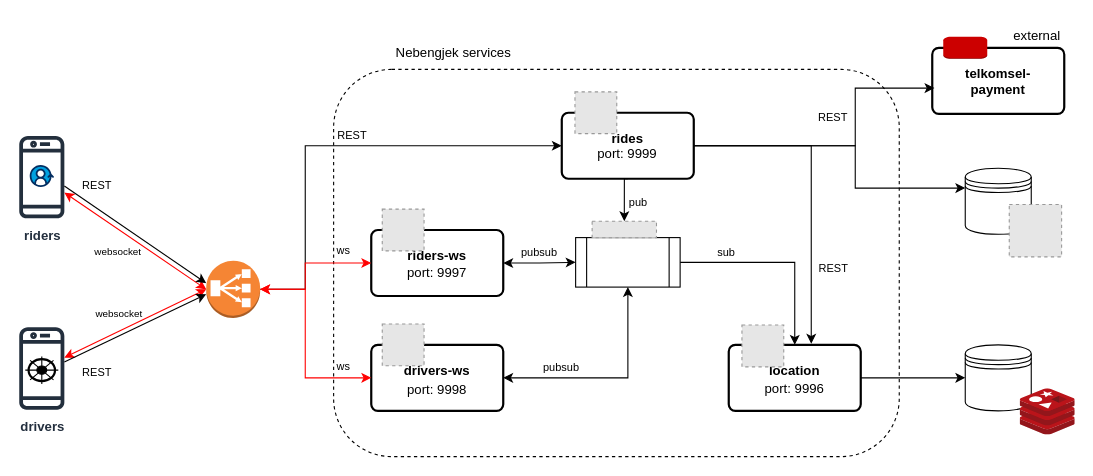
Some shapes in this 1093 by 476 pixel diagram are drawn without their labels. Grey dashed boxes stand in for pictures. Here are the shapes that lost their labels. From the top down, the centre of each, then its label:
At (997,200): "rides DB".
At (627,262): "message broker".
At (232,289): "load balancer".
At (997,377): "location DB".
